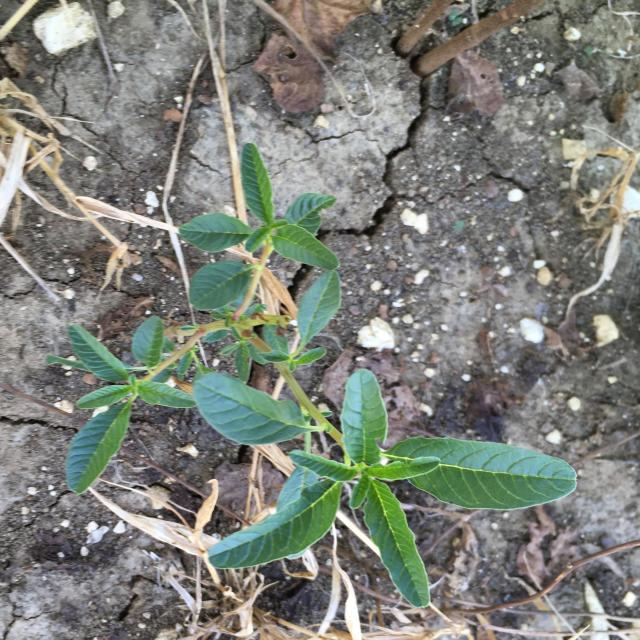Waterhemp: (47, 143, 577, 608)
